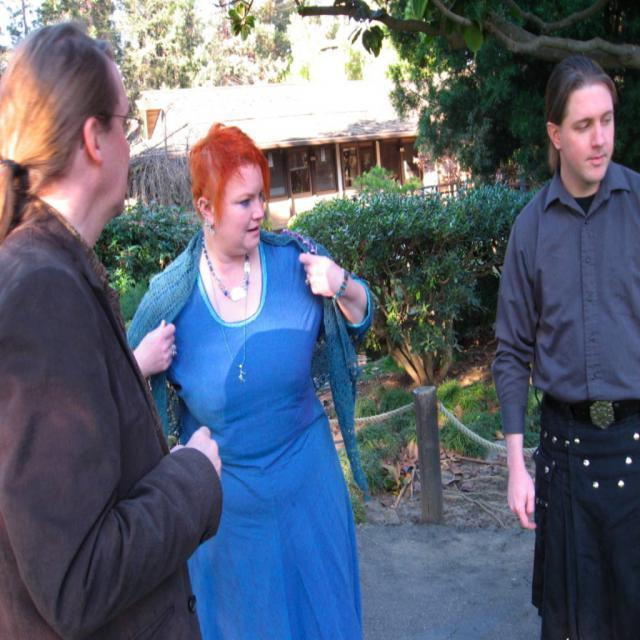closed-mouth: (589, 153, 606, 168)
